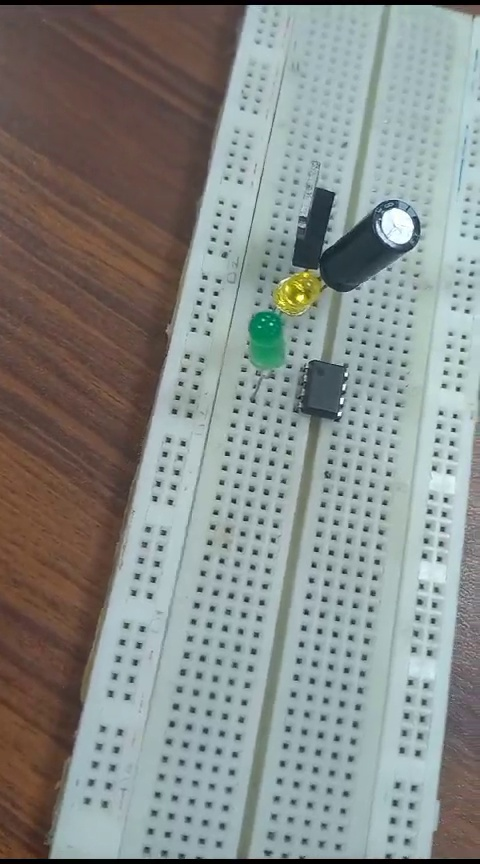IC: (300, 348, 346, 428)
LED: (250, 308, 291, 399), (272, 269, 326, 312)
capacitor: (342, 184, 419, 285)
voltage regulator: (291, 148, 336, 265)
